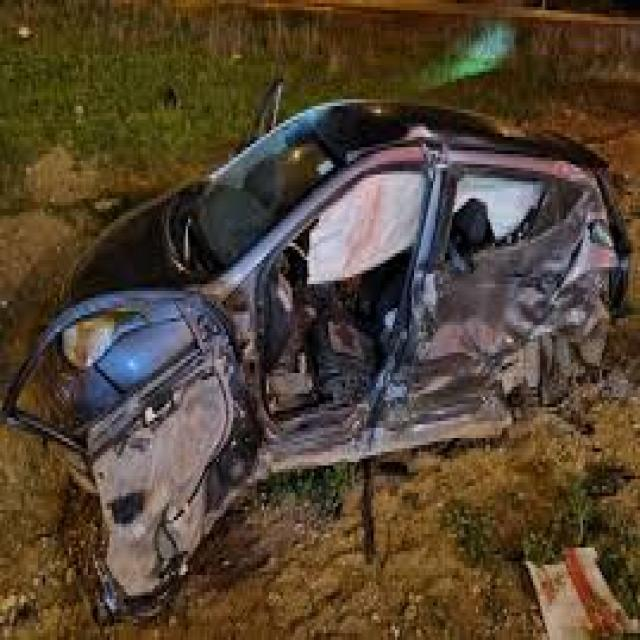accident: (39, 98, 603, 562)
